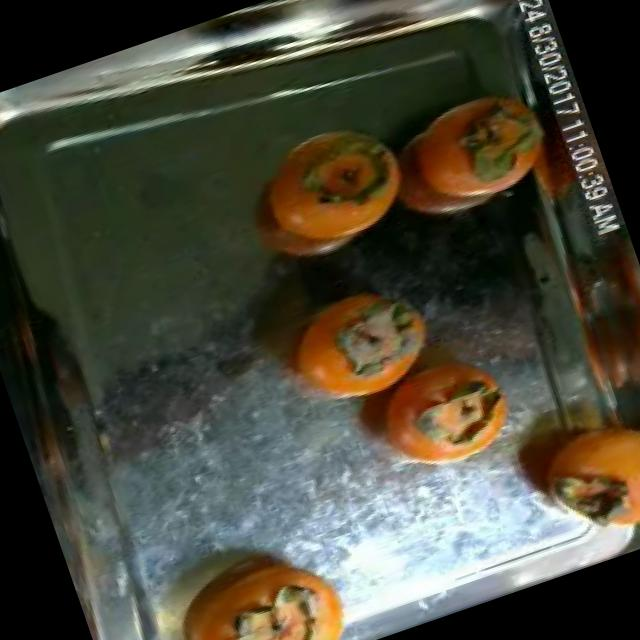Fruit: (208, 93, 438, 297), (355, 65, 569, 249), (240, 256, 455, 430)
